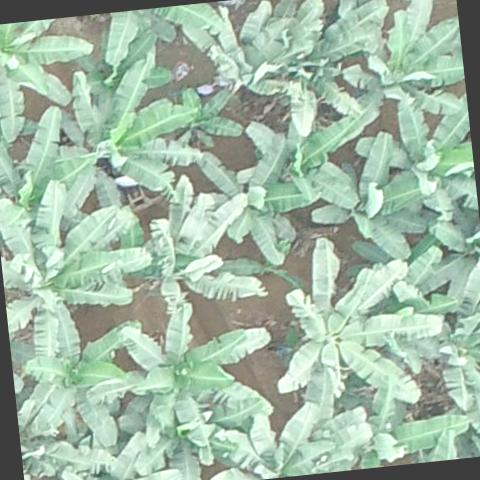Banana-plant: (258, 224, 455, 426), (77, 290, 282, 458), (0, 169, 156, 366), (313, 0, 473, 177), (48, 49, 206, 212), (111, 164, 270, 320), (6, 296, 157, 452), (297, 126, 443, 274), (196, 128, 326, 276), (352, 86, 479, 228), (244, 23, 389, 140), (394, 250, 480, 439), (242, 107, 369, 220), (0, 17, 106, 141), (0, 99, 101, 228), (214, 0, 339, 91), (199, 400, 341, 480), (166, 75, 254, 153)
